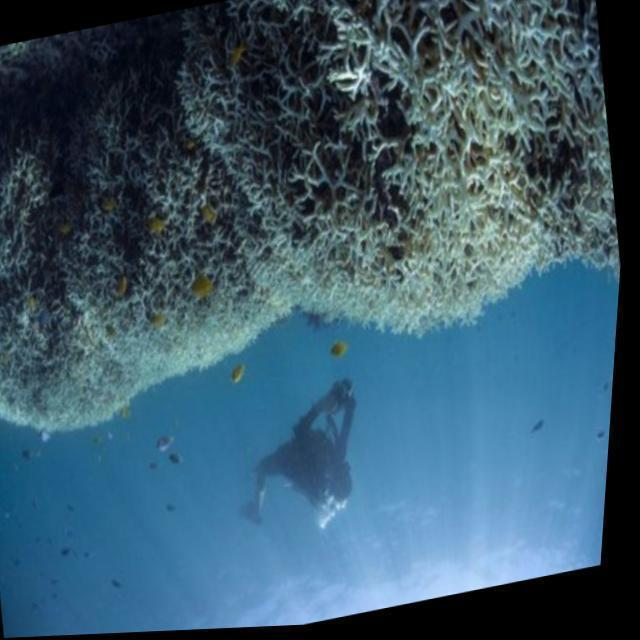Dead Coral: (0, 0, 438, 444), (0, 0, 347, 454), (526, 139, 629, 271)
